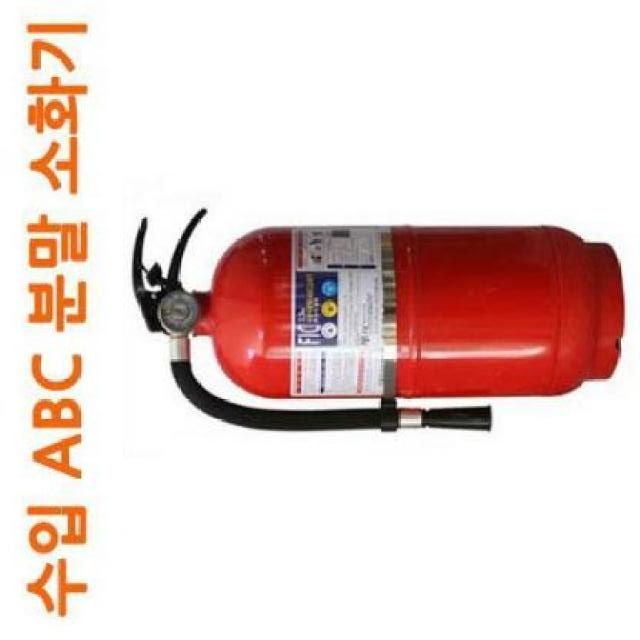fire extinguisher: (132, 208, 626, 432)
